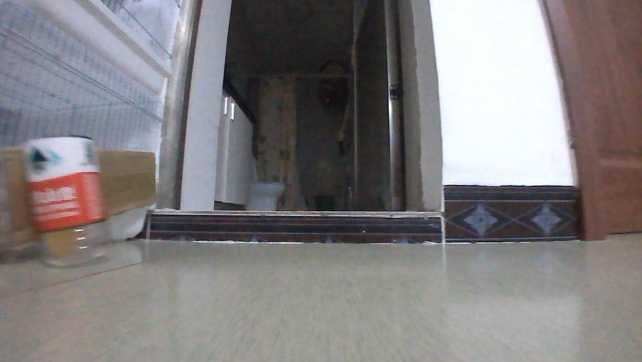door_sill: (152, 211, 440, 246)
toilet: (344, 0, 402, 210), (246, 173, 288, 212)
